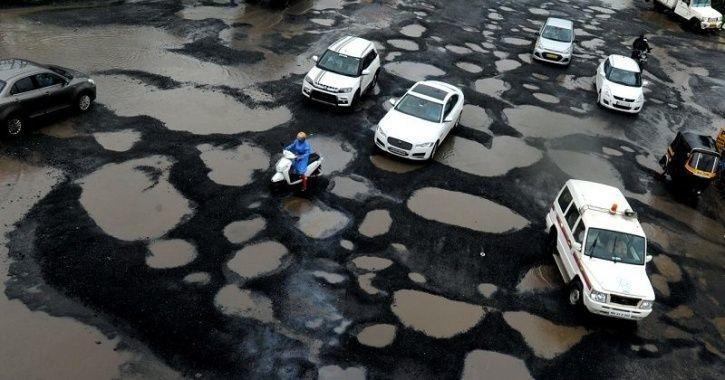pothole: (84, 64, 302, 127), (65, 161, 204, 240), (641, 190, 724, 259), (391, 281, 484, 342), (499, 297, 582, 357), (427, 146, 543, 181), (201, 286, 284, 324), (552, 140, 613, 188), (218, 248, 307, 279), (455, 346, 540, 378), (660, 50, 699, 95), (217, 203, 266, 237), (645, 260, 683, 294), (381, 32, 427, 60), (307, 355, 362, 378), (351, 317, 401, 342), (527, 88, 563, 114), (582, 7, 626, 26), (395, 12, 427, 38), (392, 13, 427, 33), (452, 60, 480, 77), (706, 307, 724, 330), (480, 26, 496, 44)
